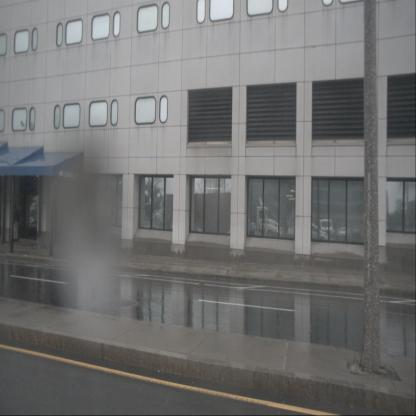human-pedestrian-adult: (13, 205, 20, 242)
vehicle-car: (298, 218, 329, 243), (318, 218, 334, 240), (350, 228, 362, 242), (338, 225, 348, 240)
vehicle-truck: (253, 197, 279, 242)
